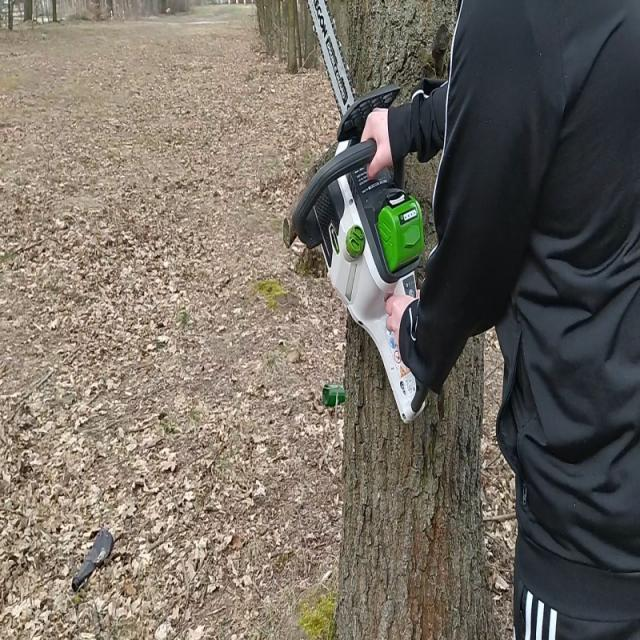Chainsaw: (280, 0, 441, 427)
